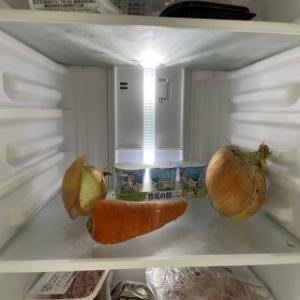carrot: (84, 192, 186, 248)
onion: (206, 142, 272, 216), (60, 153, 108, 220)
